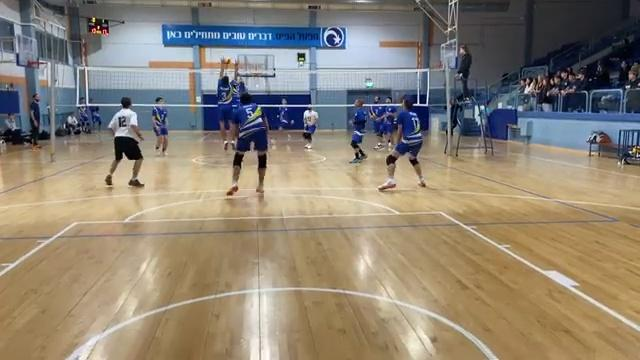ball: (219, 54, 231, 67)
